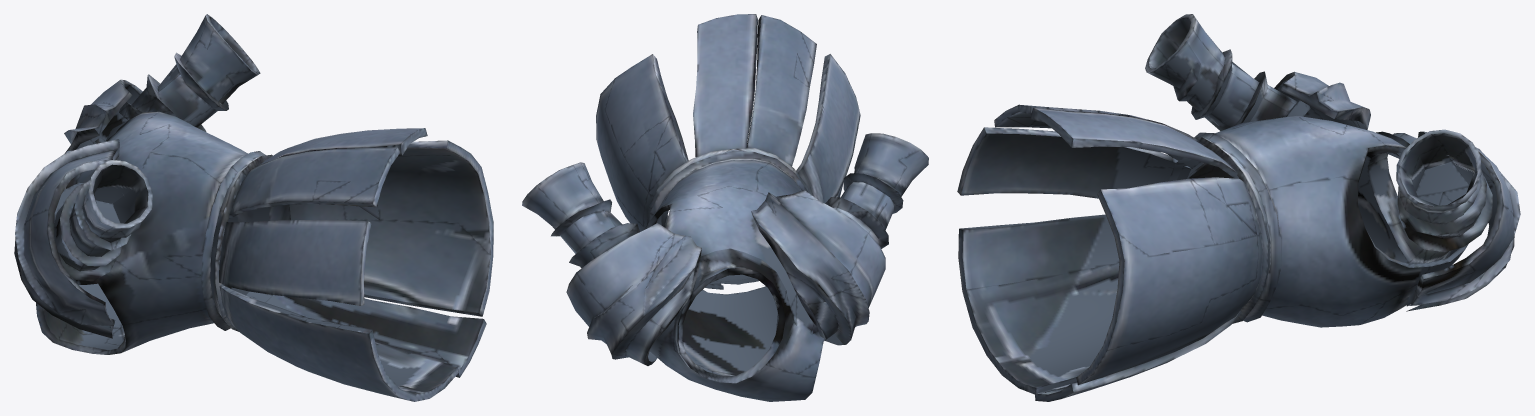
The model's file is item_mm9_10112.glb.
3 renders of one model, left to right at view 1: azimuth 30°, elevation 25°; view 2: azimuth 150°, elevation 25°; view 3: azimuth 270°, elevation 25°, orthographic. The views are drawn at different scales.
Visible parts, largest first — view 1: d10112; view 2: d10112; view 3: d10112.
Part boxes in pixels (x1,y1,x2,y2): d10112: [14, 14, 493, 401]; d10112: [522, 14, 928, 401]; d10112: [957, 14, 1520, 401].
Bounding box in the file's own units: 0.9527 × 0.6431 × 1.15.
1 material, 1 textured.
